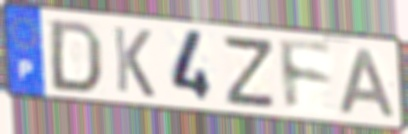4: (167, 27, 220, 108)
A: (337, 47, 398, 121)
D: (47, 18, 105, 96)
F: (275, 36, 336, 114)
K: (111, 24, 157, 101)
Z: (223, 35, 277, 111)
